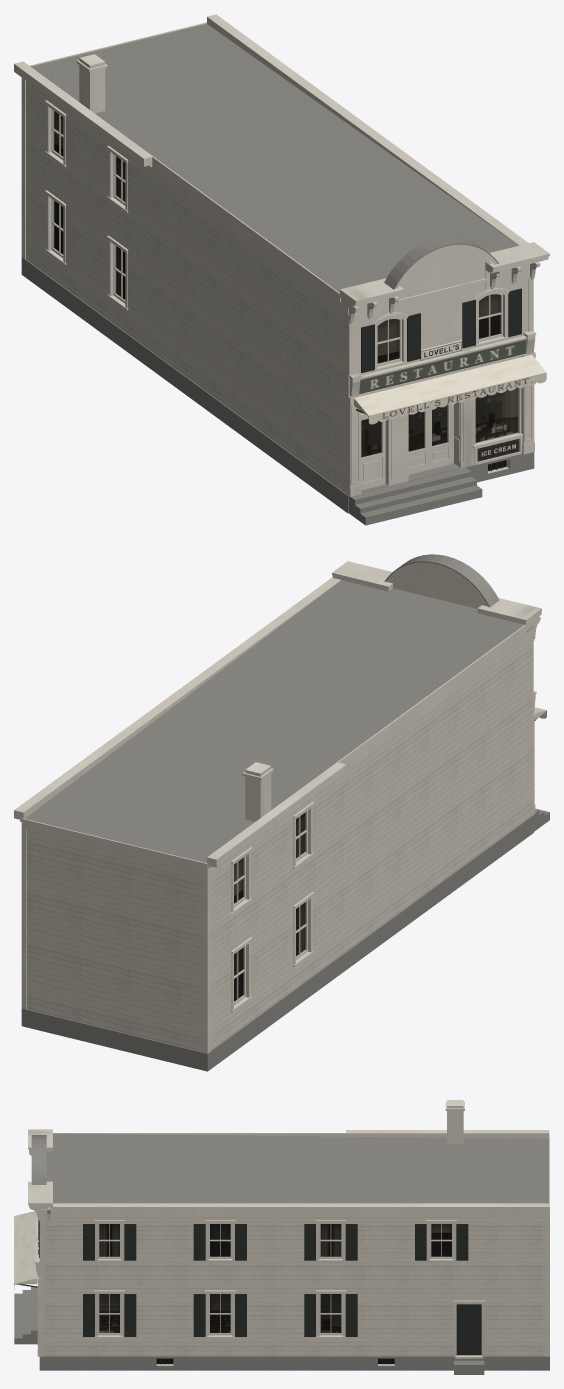
File: lovells-restaurant.glb
3 views of the same model, one above another, from view 1: azimuth 30°, elevation 25°; view 2: azimuth 150°, elevation 25°; view 3: azimuth 270°, elevation 25° (orthographic). The views are drawn at different scales.
Parts seen in each view (by area): view 1: LovellsRestaurant; view 2: LovellsRestaurant; view 3: LovellsRestaurant.
Part boxes in pixels (<box>): LovellsRestaurant: <box>14,14,549,525</box>; LovellsRestaurant: <box>14,554,549,1071</box>; LovellsRestaurant: <box>14,1100,549,1374</box>.
Bounding box in the file's own units: 6.7 × 8 × 19.38.
7 materials, 5 textured.
